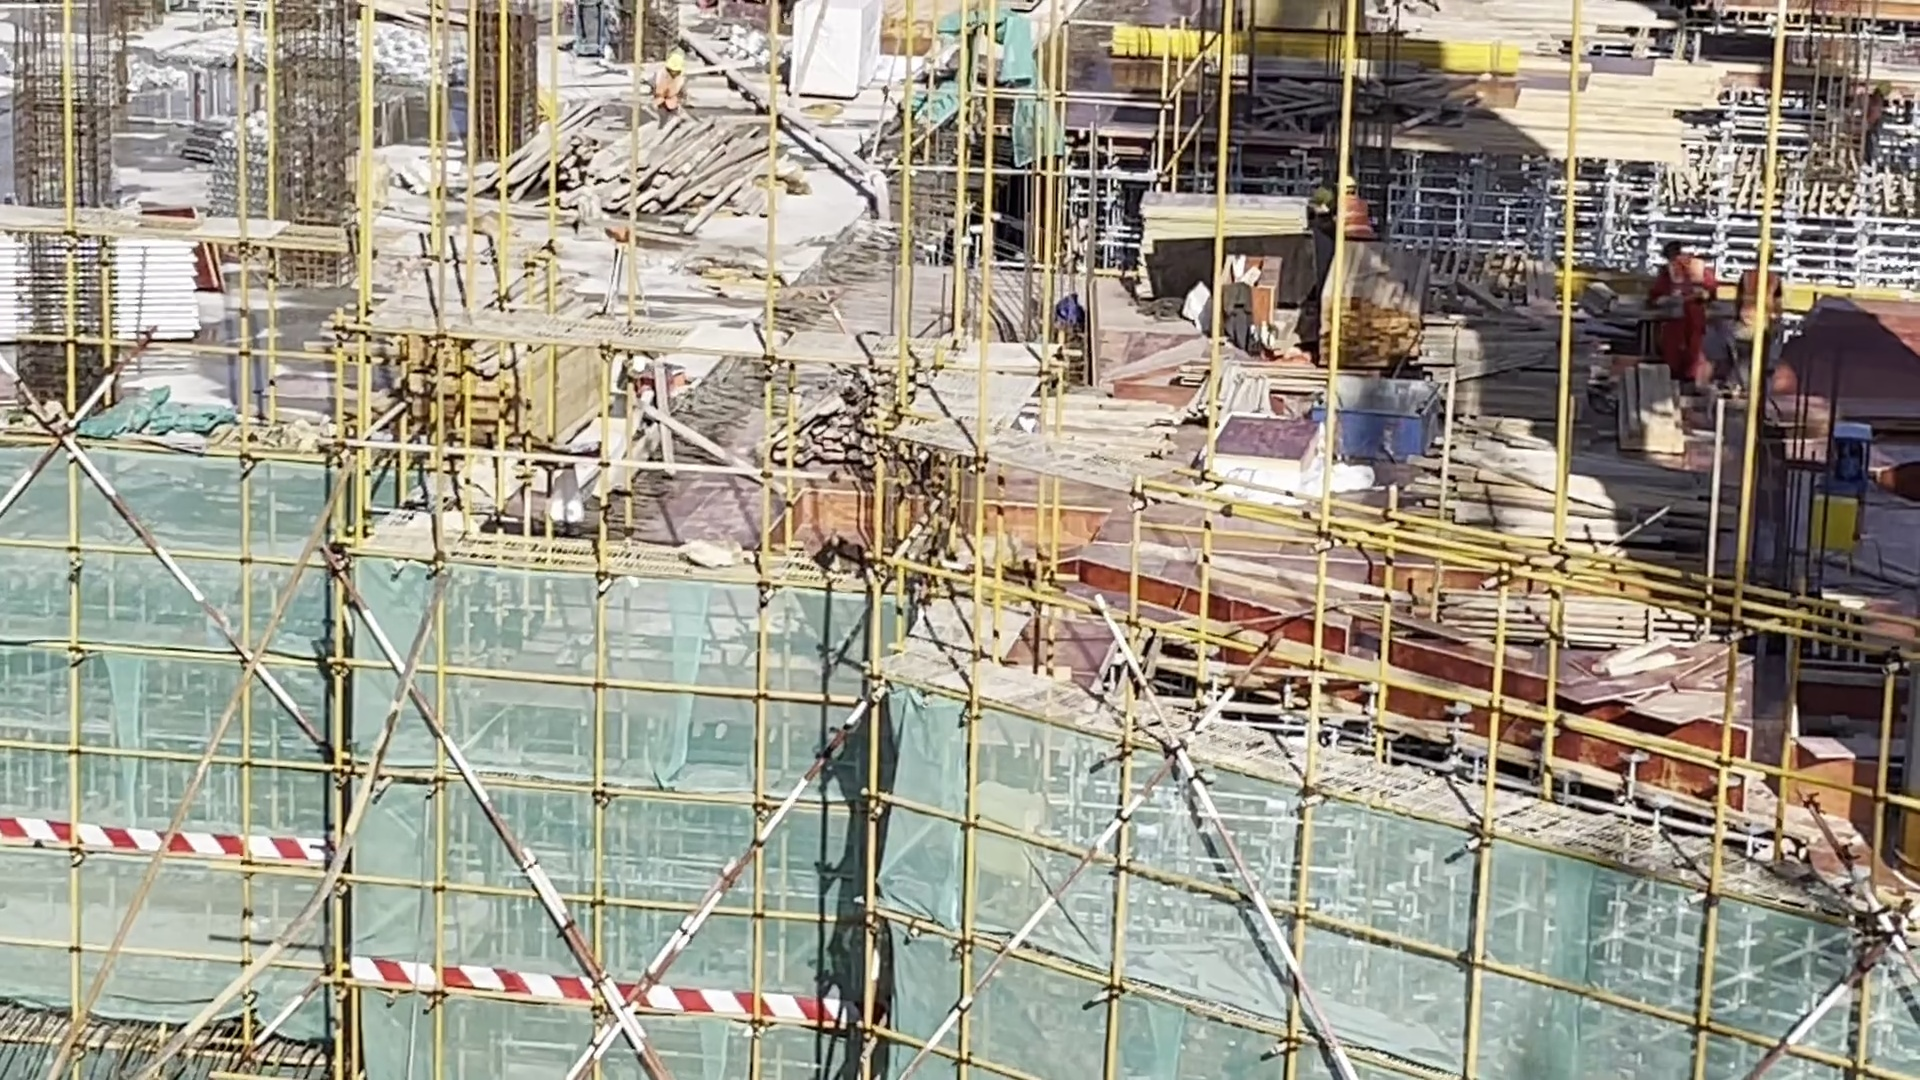board: (1588, 649, 1733, 726)
ebox: (1795, 496, 1869, 570)
helmet: (658, 49, 685, 79), (1655, 236, 1680, 263), (1337, 170, 1360, 196), (624, 357, 649, 379)
hopper: (1332, 348, 1440, 463)
person: (1640, 238, 1710, 375), (1740, 238, 1785, 366), (645, 48, 697, 123), (1324, 175, 1387, 236), (619, 354, 681, 398)
scaffold: (1, 212, 201, 346), (200, 113, 297, 223)
vest: (1656, 264, 1711, 334), (1739, 273, 1787, 350), (1337, 197, 1370, 242), (650, 74, 683, 108)
wood: (480, 107, 766, 263), (373, 301, 603, 465), (1415, 422, 1612, 548), (1429, 587, 1721, 656), (1311, 233, 1437, 383)
